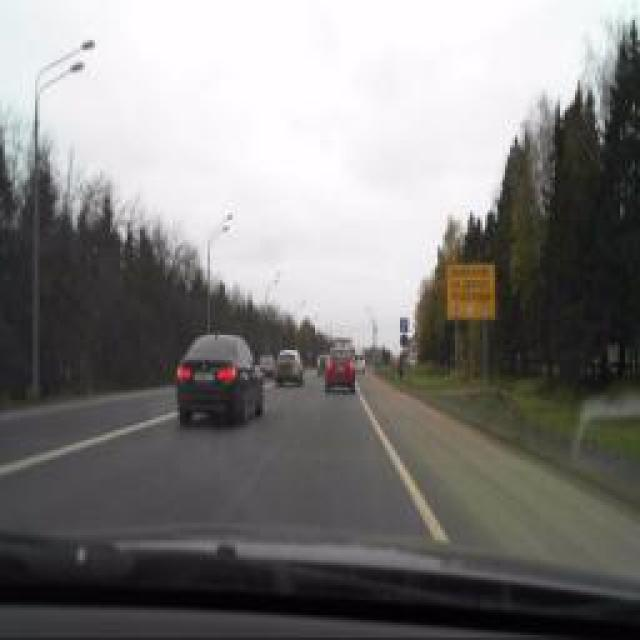sign: (399, 332, 409, 350)
